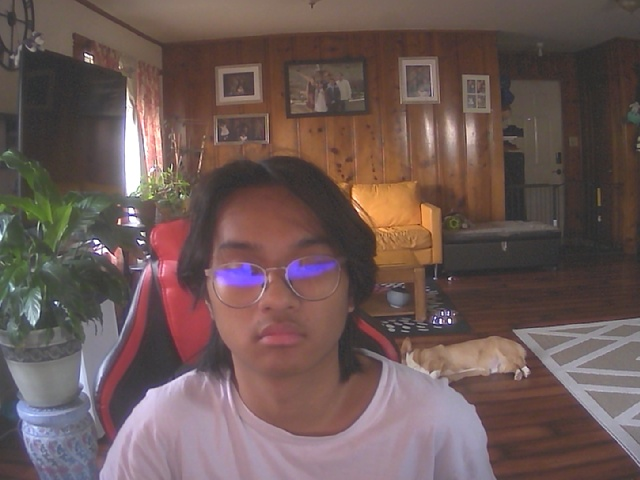neutral: (195, 159, 363, 378)
